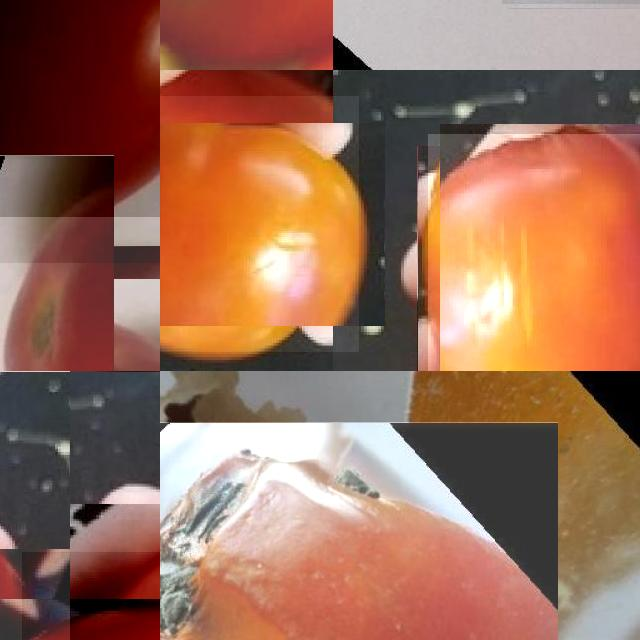Fresh Tomato: (160, 96, 359, 352), (0, 0, 160, 263), (0, 216, 160, 371), (22, 551, 160, 640), (160, 0, 333, 70)
Rotten Tomato: (160, 422, 558, 640), (428, 134, 640, 371)
